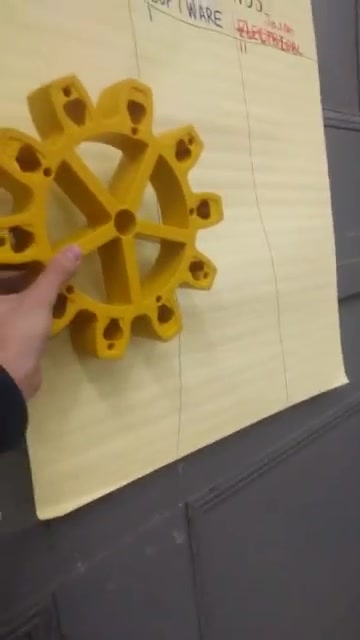gear: (1, 80, 238, 355)
